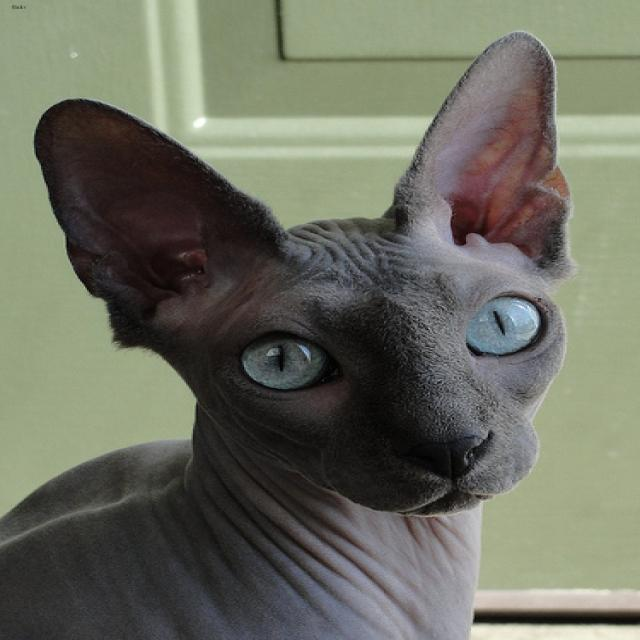Sphynx: (31, 30, 572, 515)
